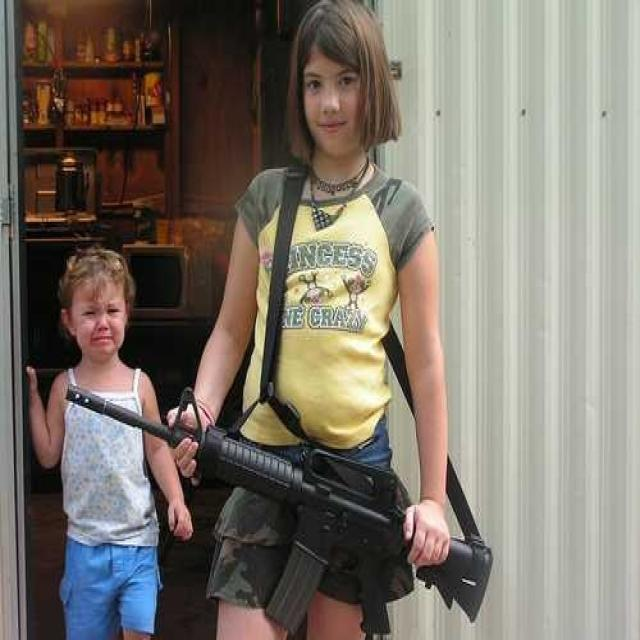Rifle: (63, 363, 494, 637)
